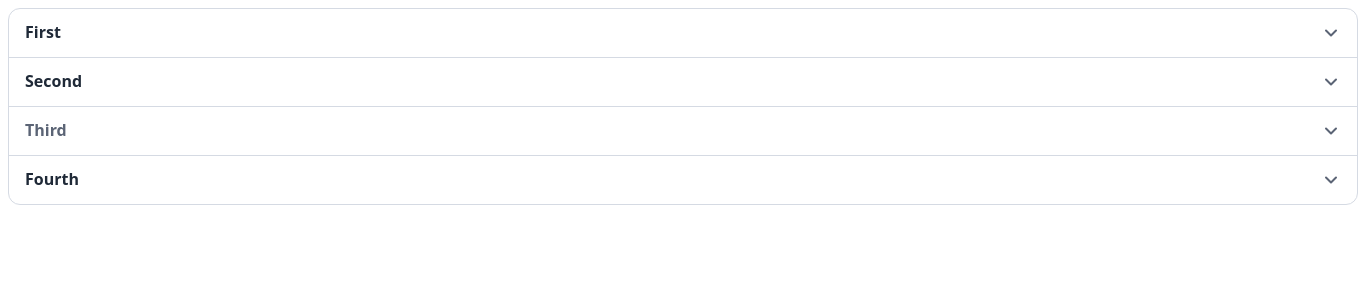
Test: Accordion behaviour › multiple mode opens items independently
The image size is (1366, 300).
Click the button "First" at (43, 32), box [9, 9, 1357, 57]
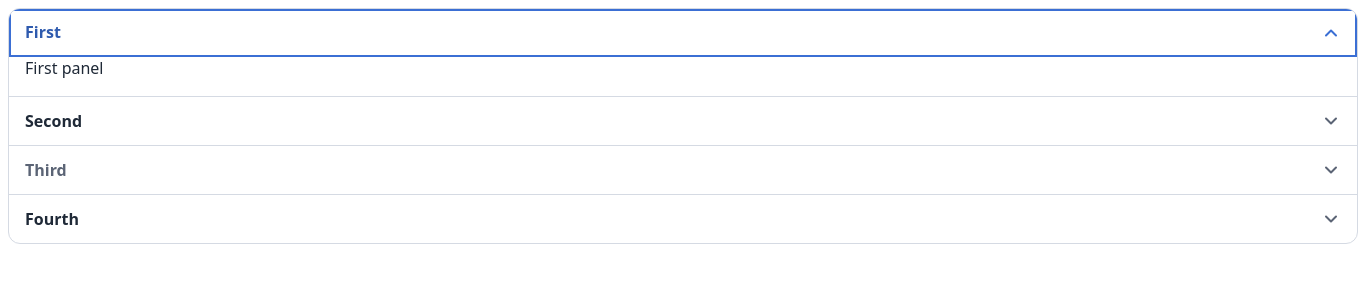
Click the button "Second" at (54, 121), box [9, 97, 1357, 145]
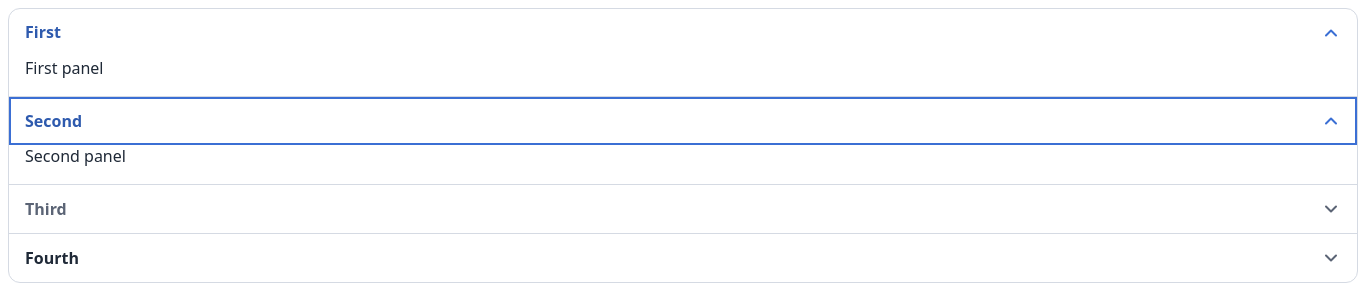
Expected: the button "First" is expanded, [9, 9, 1357, 57]
Expected: the button "Second" is expanded, [9, 97, 1357, 145]
